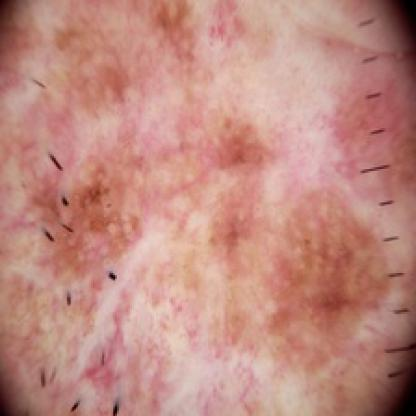malignant: (9, 13, 398, 386)
